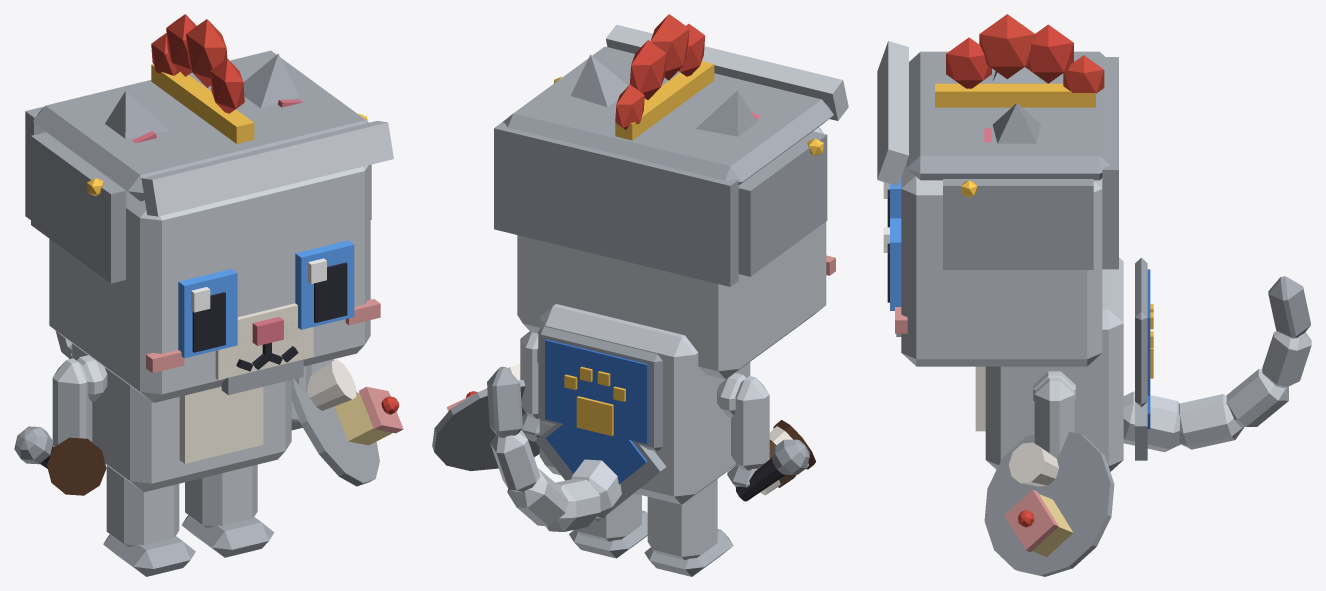
Rendered from CatCafe_Cat_Knight_Work.fbx.
3 renders of one model, left to right at view 1: azimuth 30°, elevation 25°; view 2: azimuth 150°, elevation 25°; view 3: azimuth 270°, elevation 25°, orthographic. The views are drawn at different scales.
Parts seen in each view (by area): view 1: CatCafe_Cat_Knight_Work_Prop, CatCafe_Cat_Knight_Work_Head, CatCafe_Cat_Knight_Work_Body, CatCafe_Cat_Knight_Work_Held_Waiter, CatCafe_Cat_Knight_Work_LegB2, CatCafe_Cat_Knight_Work_LegB1, CatCafe_Cat_Knight_Work_Eye2, CatCafe_Cat_Knight_Work_Eye1, CatCafe_Cat_Knight_Work_LegF2, CatCafe_Cat_Knight_Work_Held_Barista, CatCafe_Cat_Knight_Work_EarL, CatCafe_Cat_Knight_Work_EarR (+1 smaller); view 2: CatCafe_Cat_Knight_Work_Prop, CatCafe_Cat_Knight_Work_Head, CatCafe_Cat_Knight_Work_Prop2, CatCafe_Cat_Knight_Work_Body, CatCafe_Cat_Knight_Work_Tail, CatCafe_Cat_Knight_Work_LegB2, CatCafe_Cat_Knight_Work_Held_Waiter, CatCafe_Cat_Knight_Work_LegF2, CatCafe_Cat_Knight_Work_LegB1, CatCafe_Cat_Knight_Work_Held_Entertainer, CatCafe_Cat_Knight_Work_Crest_Glow, CatCafe_Cat_Knight_Work_LegF1 (+3 smaller); view 3: CatCafe_Cat_Knight_Work_Prop, CatCafe_Cat_Knight_Work_Head, CatCafe_Cat_Knight_Work_Held_Waiter, CatCafe_Cat_Knight_Work_Body, CatCafe_Cat_Knight_Work_Tail, CatCafe_Cat_Knight_Work_Prop2, CatCafe_Cat_Knight_Work_LegF1, CatCafe_Cat_Knight_Work_EarL, CatCafe_Cat_Knight_Work_Eye1, CatCafe_Cat_Knight_Work_Eye2.
Boxes of the visible parts, x1=… form: CatCafe_Cat_Knight_Work_Prop: x1=25, y1=14, x2=393, y2=283; CatCafe_Cat_Knight_Work_Head: x1=49, y1=165, x2=380, y2=402; CatCafe_Cat_Knight_Work_Body: x1=72, y1=344, x2=291, y2=492; CatCafe_Cat_Knight_Work_Held_Waiter: x1=291, y1=359, x2=403, y2=486; CatCafe_Cat_Knight_Work_LegB2: x1=103, y1=465, x2=195, y2=576; CatCafe_Cat_Knight_Work_LegB1: x1=182, y1=464, x2=274, y2=557; CatCafe_Cat_Knight_Work_Eye2: x1=178, y1=269, x2=237, y2=358; CatCafe_Cat_Knight_Work_Eye1: x1=295, y1=240, x2=354, y2=329; CatCafe_Cat_Knight_Work_LegF2: x1=52, y1=358, x2=92, y2=446; CatCafe_Cat_Knight_Work_Held_Barista: x1=47, y1=437, x2=106, y2=495; CatCafe_Cat_Knight_Work_EarL: x1=243, y1=53, x2=302, y2=108; CatCafe_Cat_Knight_Work_EarR: x1=105, y1=91, x2=168, y2=143; CatCafe_Cat_Knight_Work_Prop: x1=494, y1=14, x2=848, y2=286; CatCafe_Cat_Knight_Work_Head: x1=517, y1=127, x2=835, y2=379; CatCafe_Cat_Knight_Work_Prop2: x1=535, y1=326, x2=666, y2=521; CatCafe_Cat_Knight_Work_Body: x1=537, y1=304, x2=750, y2=504; CatCafe_Cat_Knight_Work_Tail: x1=487, y1=366, x2=621, y2=531; CatCafe_Cat_Knight_Work_LegB2: x1=644, y1=479, x2=733, y2=576; CatCafe_Cat_Knight_Work_Held_Waiter: x1=432, y1=364, x2=539, y2=471; CatCafe_Cat_Knight_Work_LegF2: x1=727, y1=376, x2=769, y2=487; CatCafe_Cat_Knight_Work_LegB1: x1=569, y1=493, x2=647, y2=558; CatCafe_Cat_Knight_Work_Held_Entertainer: x1=735, y1=439, x2=809, y2=501; CatCafe_Cat_Knight_Work_Crest_Glow: x1=564, y1=366, x2=625, y2=435; CatCafe_Cat_Knight_Work_LegF1: x1=520, y1=331, x2=539, y2=441; CatCafe_Cat_Knight_Work_Prop: x1=877, y1=14, x2=1118, y2=269; CatCafe_Cat_Knight_Work_Head: x1=895, y1=163, x2=1102, y2=366; CatCafe_Cat_Knight_Work_Held_Waiter: x1=984, y1=431, x2=1114, y2=576; CatCafe_Cat_Knight_Work_Body: x1=975, y1=257, x2=1123, y2=471; CatCafe_Cat_Knight_Work_Tail: x1=1123, y1=276, x2=1311, y2=452; CatCafe_Cat_Knight_Work_Prop2: x1=1135, y1=257, x2=1150, y2=460; CatCafe_Cat_Knight_Work_LegF1: x1=1034, y1=377, x2=1074, y2=457; CatCafe_Cat_Knight_Work_EarL: x1=984, y1=103, x2=1041, y2=143; CatCafe_Cat_Knight_Work_Eye1: x1=883, y1=218, x2=901, y2=310; CatCafe_Cat_Knight_Work_Eye2: x1=883, y1=178, x2=901, y2=227.
Size of the model in its own units: 1.53 by 2.15 by 1.64.
Materials: 1 (1 with a texture image).
